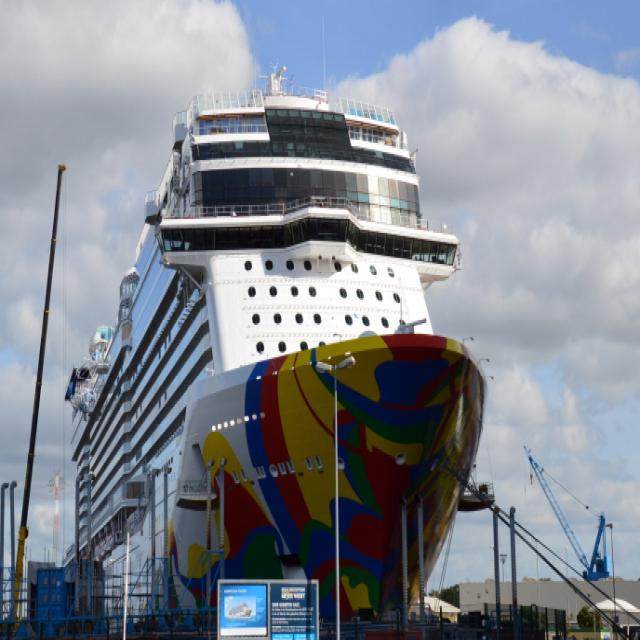cruises: (54, 64, 491, 640)
